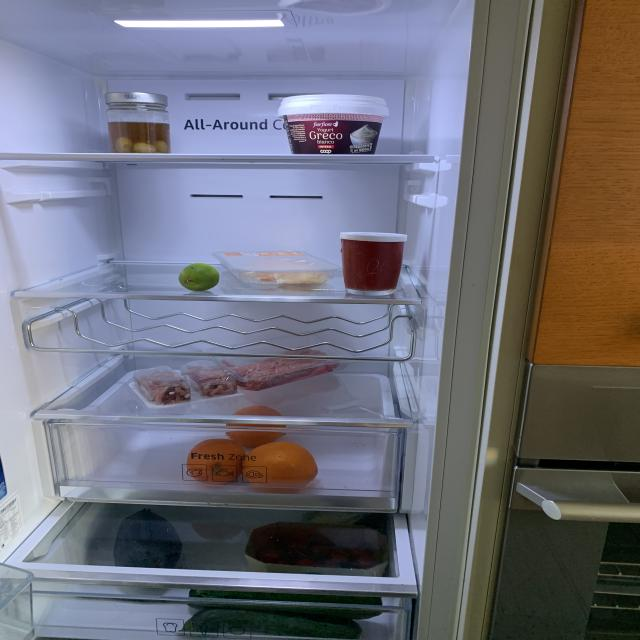aubergine: (110, 508, 184, 567)
bacon: (132, 368, 190, 406), (184, 365, 237, 398)
cherry_tomato: (260, 536, 379, 569)
chicken_breast: (246, 256, 328, 286)
courgettes: (177, 588, 386, 640)
ground_beef: (222, 350, 336, 390)
lime: (178, 264, 220, 292)
olives: (107, 122, 171, 153)
orange: (246, 442, 317, 493), (188, 439, 244, 483), (226, 405, 284, 447)
tomato_sauce: (341, 239, 405, 290)
yoghurt: (280, 94, 388, 152)
